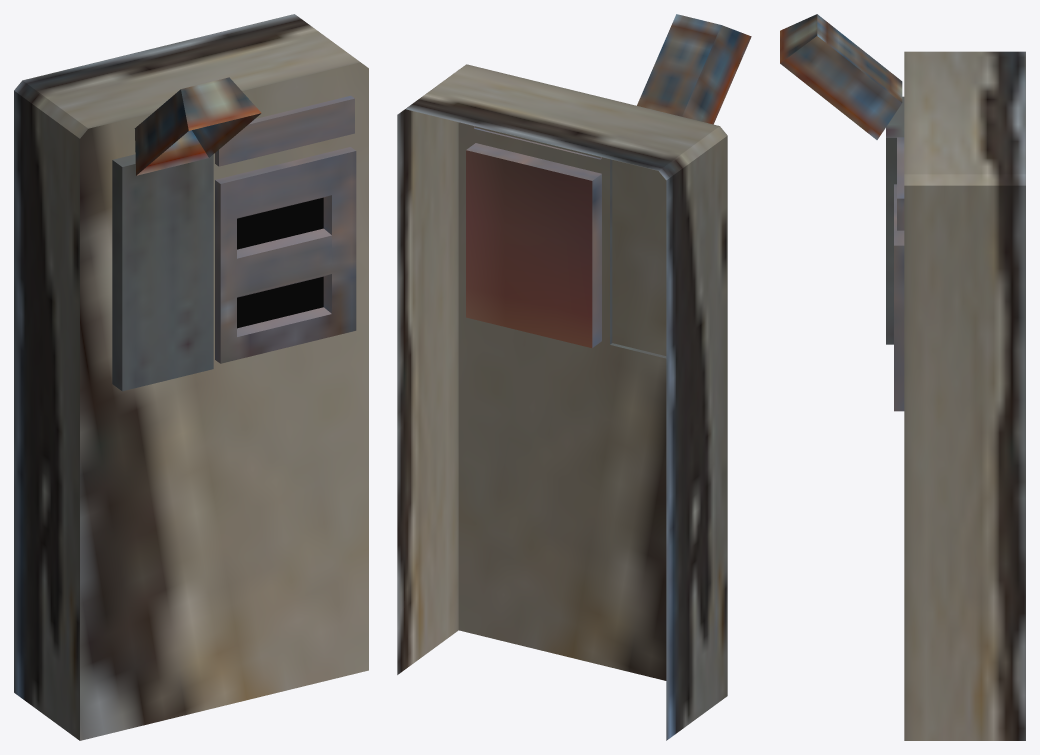
File: EndPanel.fbx
The picture shows the model from 3 angles, left to right: view 1: azimuth 30°, elevation 25°; view 2: azimuth 150°, elevation 25°; view 3: azimuth 270°, elevation 25°; orthographic projection. The views are drawn at different scales.
Visible parts, largest first — view 1: StartGamePanel.001; view 2: StartGamePanel.001; view 3: StartGamePanel.001.
Boxes of the visible parts, x1,y1,x2,y2 form: StartGamePanel.001: (14,14,368,740); StartGamePanel.001: (397,14,751,740); StartGamePanel.001: (780,14,1025,740).
Bounding box in the file's own units: 175 × 391 × 140.
